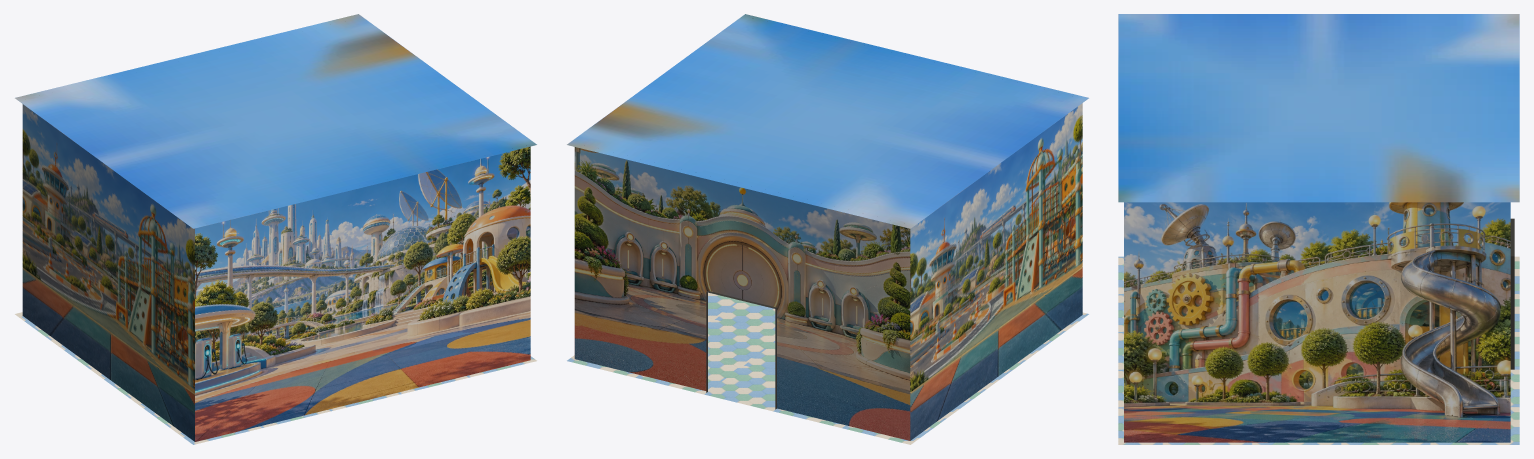
File: robot-park.glb
3 renders of one model, left to right at view 1: azimuth 30°, elevation 25°; view 2: azimuth 150°, elevation 25°; view 3: azimuth 270°, elevation 25°, orthographic. The views are drawn at different scales.
Visible parts, largest first — view 1: Mural.robot-park.back, Mural.robot-park.ceiling, Mural.robot-park.right, Floor; view 2: Mural.robot-park.front, Mural.robot-park.ceiling, Mural.robot-park.right, Floor, Trim; view 3: Mural.robot-park.left, Mural.robot-park.ceiling, Floor, Trim.
Part boxes in pixels (left/top/right/bottom): Mural.robot-park.back: left=195, top=146, right=530, bottom=441; Mural.robot-park.ceiling: left=15, top=14, right=536, bottom=228; Mural.robot-park.right: left=22, top=104, right=194, bottom=441; Floor: left=15, top=312, right=536, bottom=444; Mural.robot-park.front: left=574, top=147, right=910, bottom=440; Mural.robot-park.ceiling: left=567, top=14, right=1088, bottom=228; Mural.robot-park.right: left=910, top=103, right=1082, bottom=440; Floor: left=567, top=292, right=1088, bottom=444; Trim: left=706, top=291, right=776, bottom=409; Mural.robot-park.left: left=1124, top=202, right=1510, bottom=442; Mural.robot-park.ceiling: left=1118, top=14, right=1519, bottom=202; Floor: left=1118, top=256, right=1519, bottom=444; Trim: left=1510, top=218, right=1514, bottom=369.
Bounding box in the file's own units: 10 × 6 × 9.
7 materials, 6 textured.
